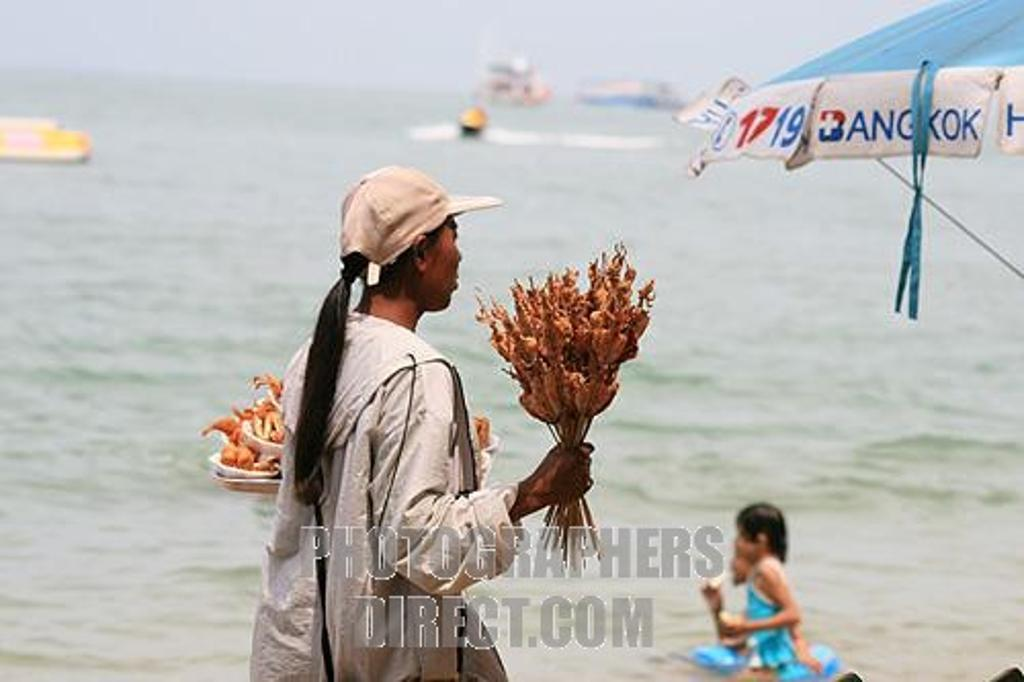face: (398, 196, 460, 304)
